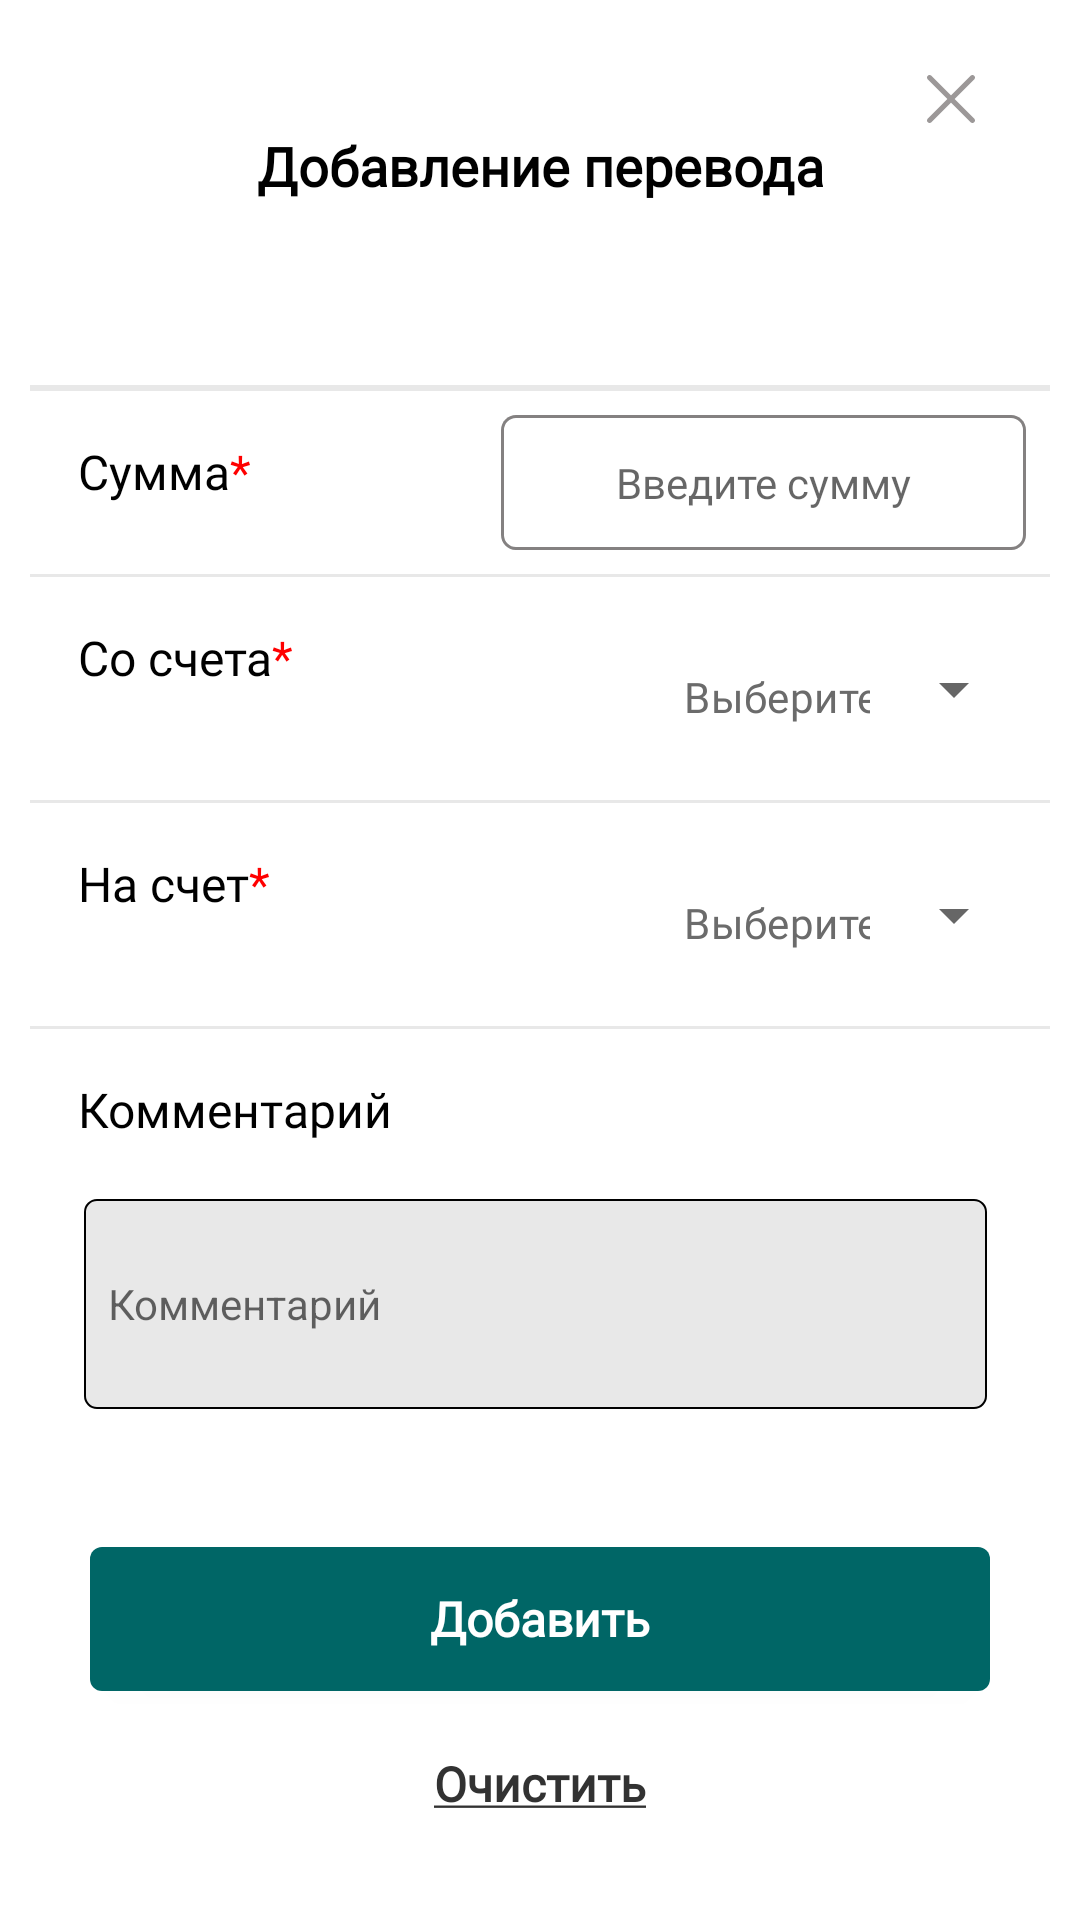

Screen size 1080 × 1920. Icon name, then its box in pixels as (x1, y1, x2, y2):
close: (927, 75, 975, 123)
